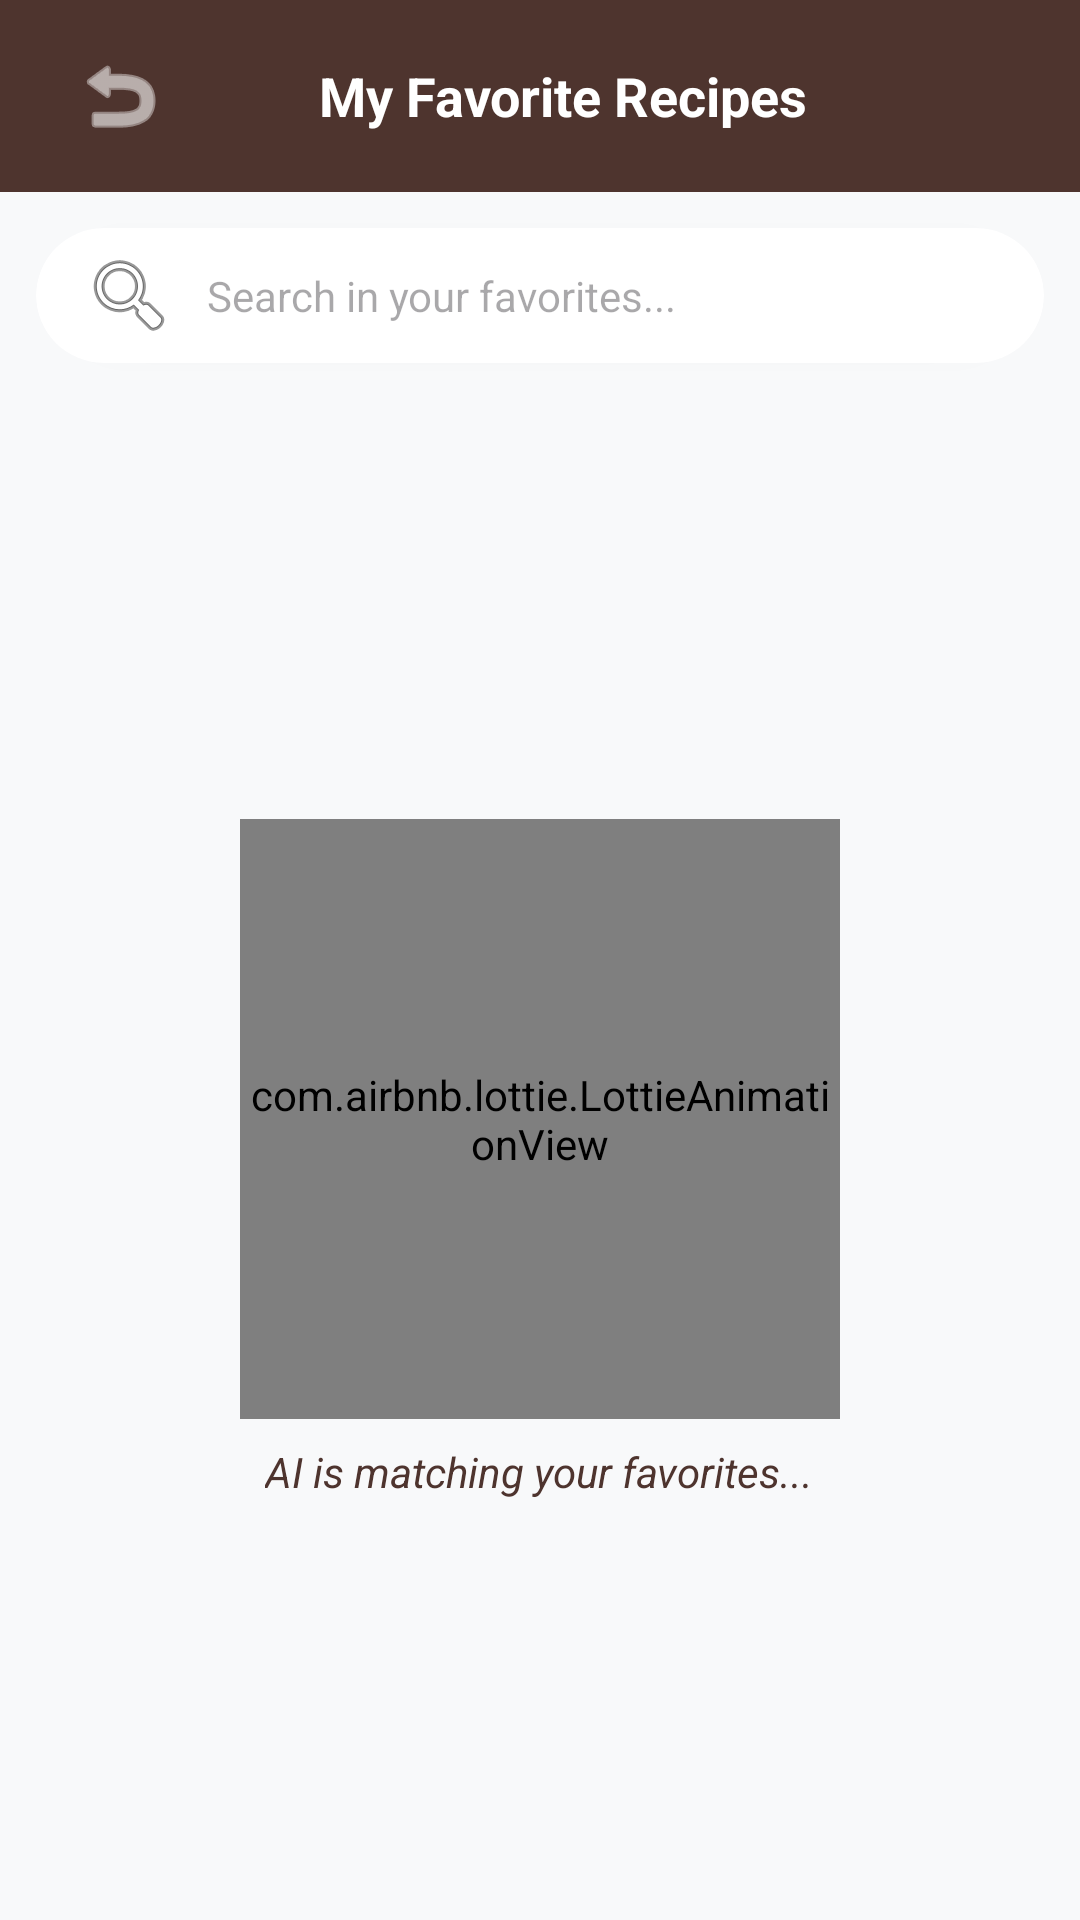

Icons on this 1080px×1920px Android screen, each with the point to tap as (x,y):
revert: (121,96)
